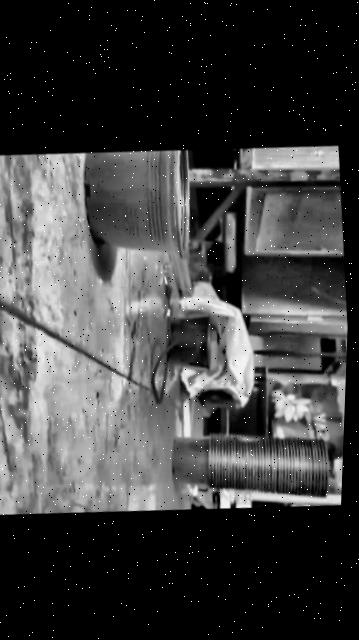pot: (78, 144, 198, 272), (164, 312, 218, 375)
